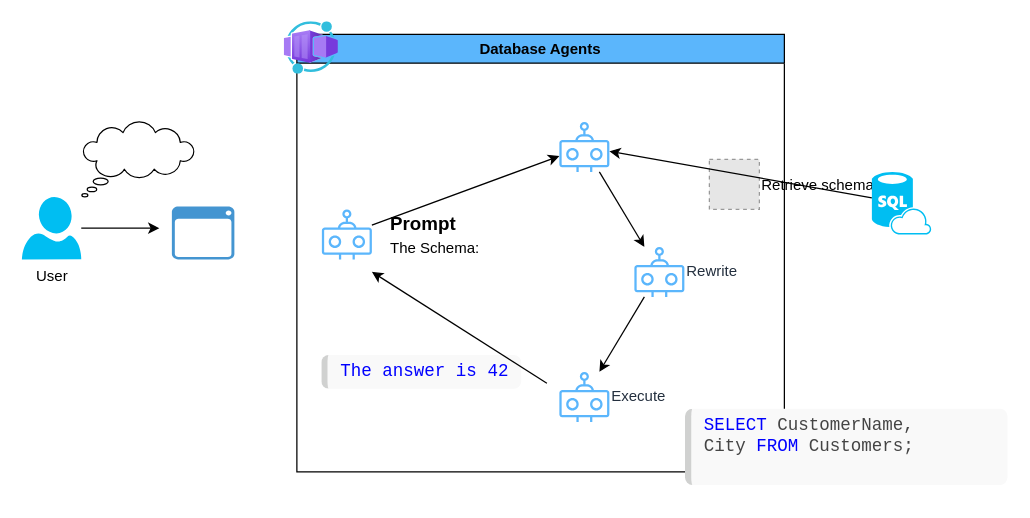
Some shapes in this 1030 by 518 pixel diagram are drawn without their labels. Grey dashed boxes stand in for pictures. The shapes that lost their labels are listed below. From the top down, each one's centre as x and y in pixels, then its label:
point 137,159: Question
point 584,146: Generate
point 202,232: UI
